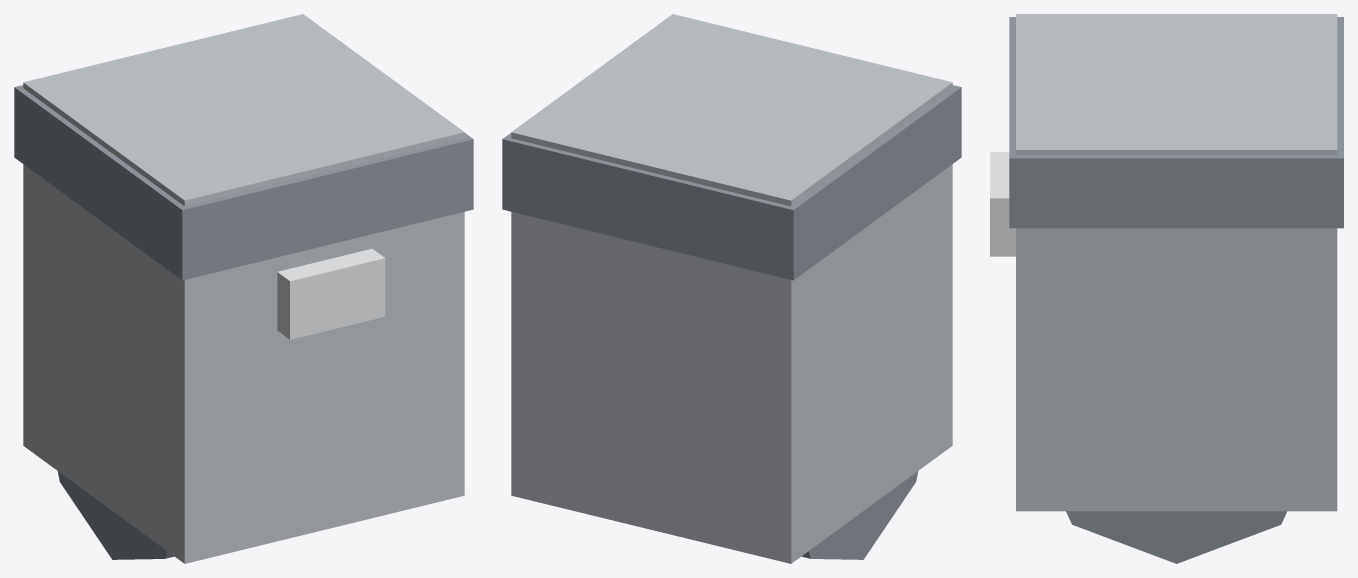
Rendered from pc_epi_upper_arm.fbx.
The picture shows the model from 3 angles, left to right: view 1: azimuth 30°, elevation 25°; view 2: azimuth 150°, elevation 25°; view 3: azimuth 270°, elevation 25°; orthographic projection.
Visible parts, largest first — view 1: pc_epi_upper_arm; view 2: pc_epi_upper_arm; view 3: pc_epi_upper_arm.
Part boxes in pixels (box(x1,y1,x2,y2)): pc_epi_upper_arm: box(14, 14, 473, 563); pc_epi_upper_arm: box(502, 14, 961, 563); pc_epi_upper_arm: box(990, 14, 1343, 563).
Bounding box in the file's own units: 104 × 144 × 110.
